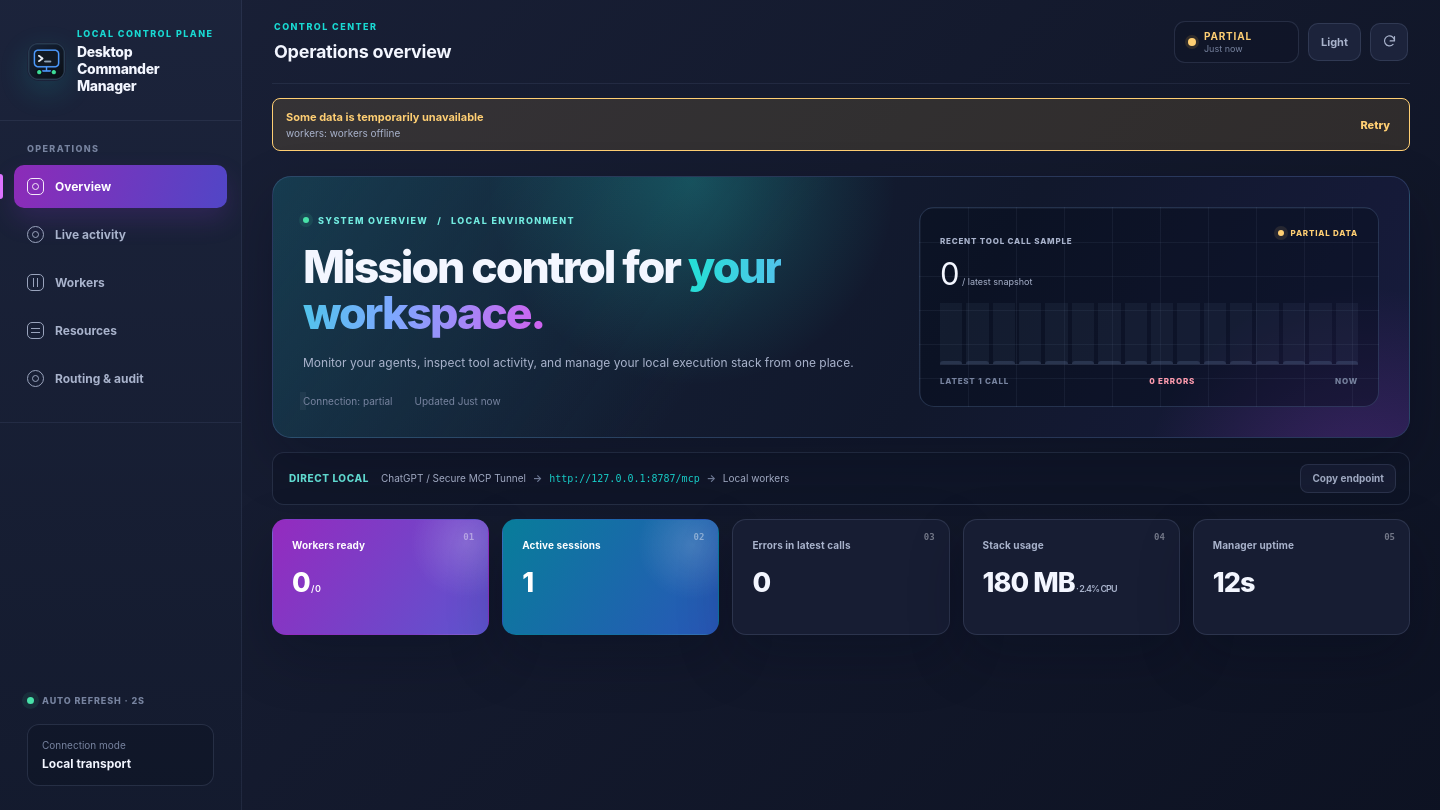
Test case: dashboard › does not report an empty worker pool when the workers request fails
The image size is (1440, 810).
Click the link "Workers". click: (66,282)
box: top-left (27, 274), bottom-right (105, 291)
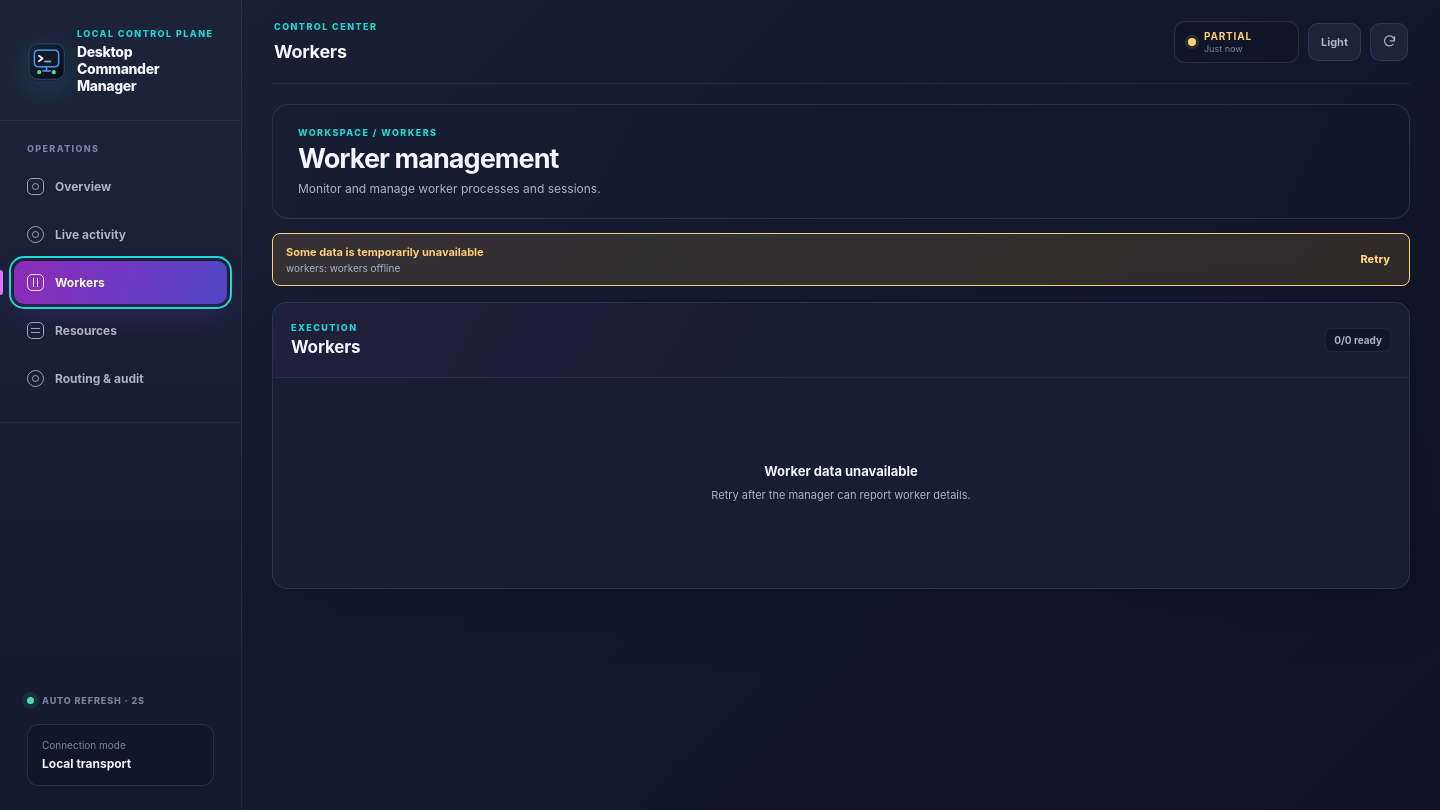
Expected: the message "Some data is temporarily unavailable workers: workers offline Retry" is shown, top-left (272, 233), bottom-right (1410, 286)
Expected: the text "Worker data unavailable" is shown, top-left (764, 462), bottom-right (918, 478)
